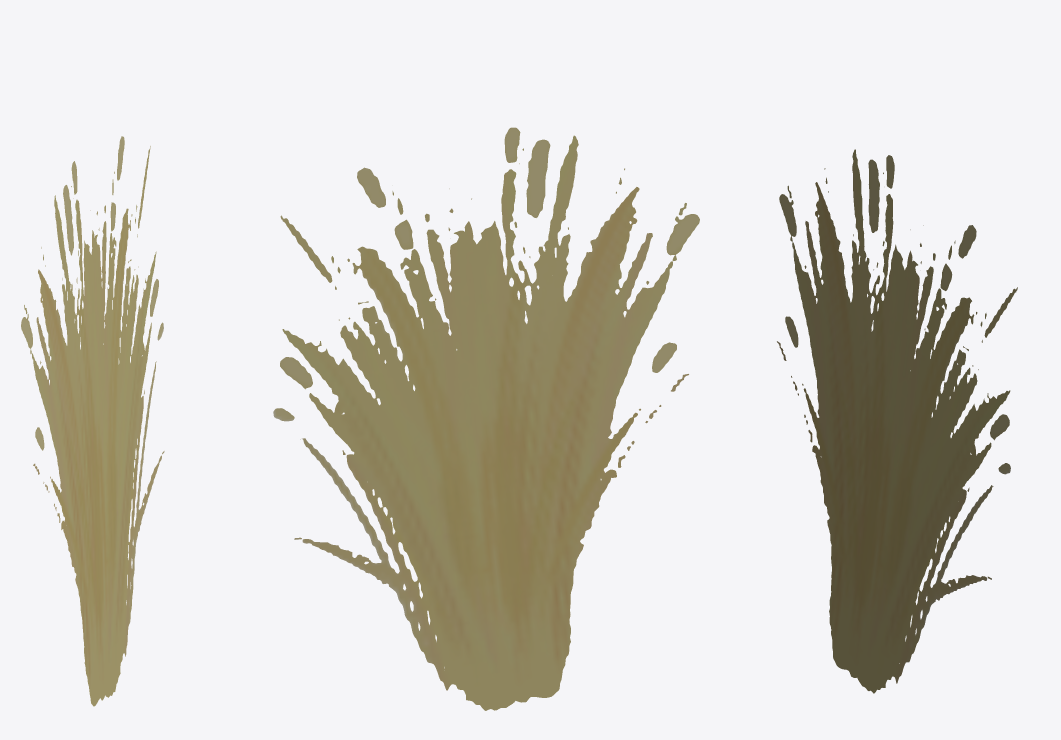
File: grass1_001.fbx
3 views of the same model, side by side, from view 1: azimuth 30°, elevation 25°; view 2: azimuth 150°, elevation 25°; view 3: azimuth 270°, elevation 25° (orthographic). The views are drawn at different scales.
Parts seen in each view (by area): view 1: grass1.001; view 2: grass1.001; view 3: grass1.001.
Part boxes in pixels (x1,y1,x2,y2): grass1.001: (21,136,164,706); grass1.001: (273,127,699,710); grass1.001: (777,149,1017,693).
Size of the model in its own units: 121 by 235 by 98.86.
